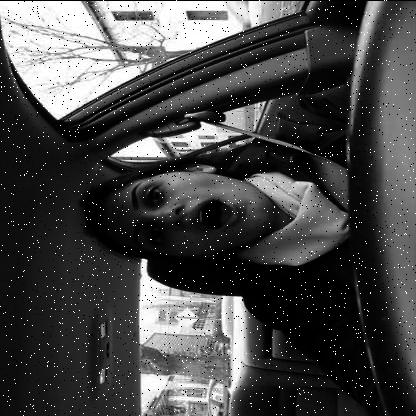seatbelt: (64, 106, 348, 276)
